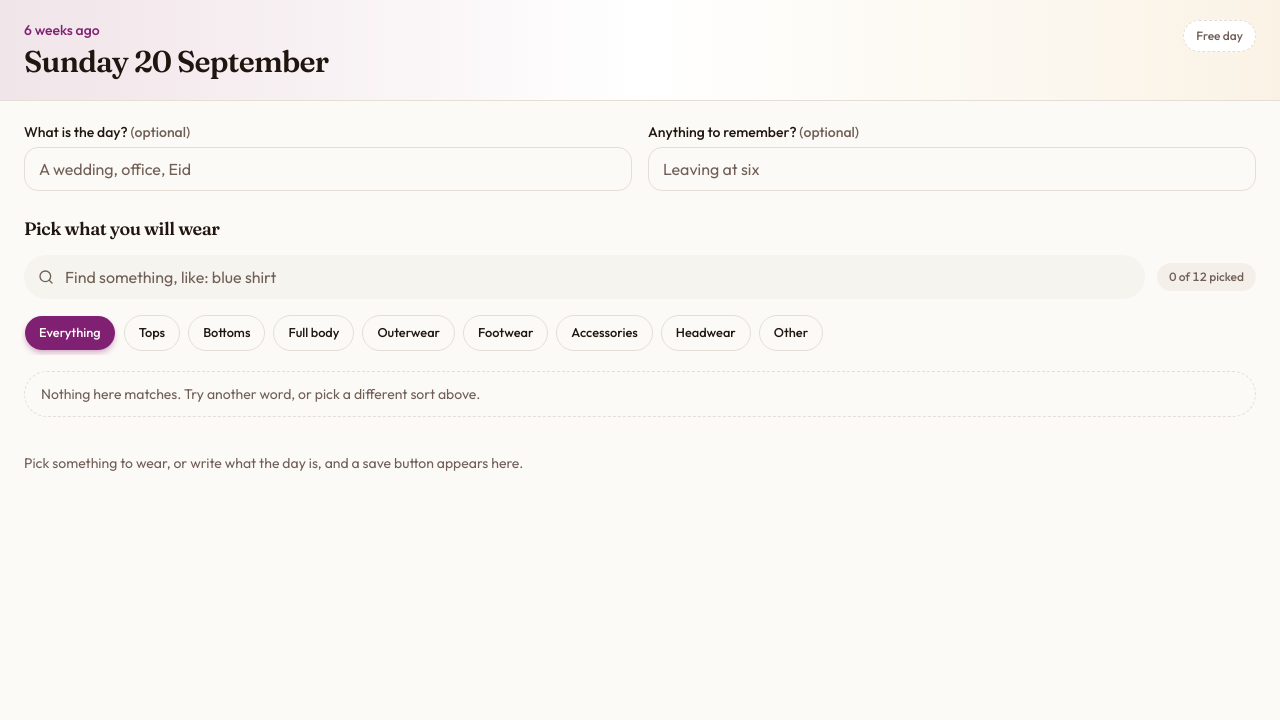
Test case: DayPlan, on a free day › brings the save button out once the day is named
Type "Eid" into the field labelled "What is the day? (optional)" at (328, 169), box top-left (24, 147), bottom-right (632, 191)
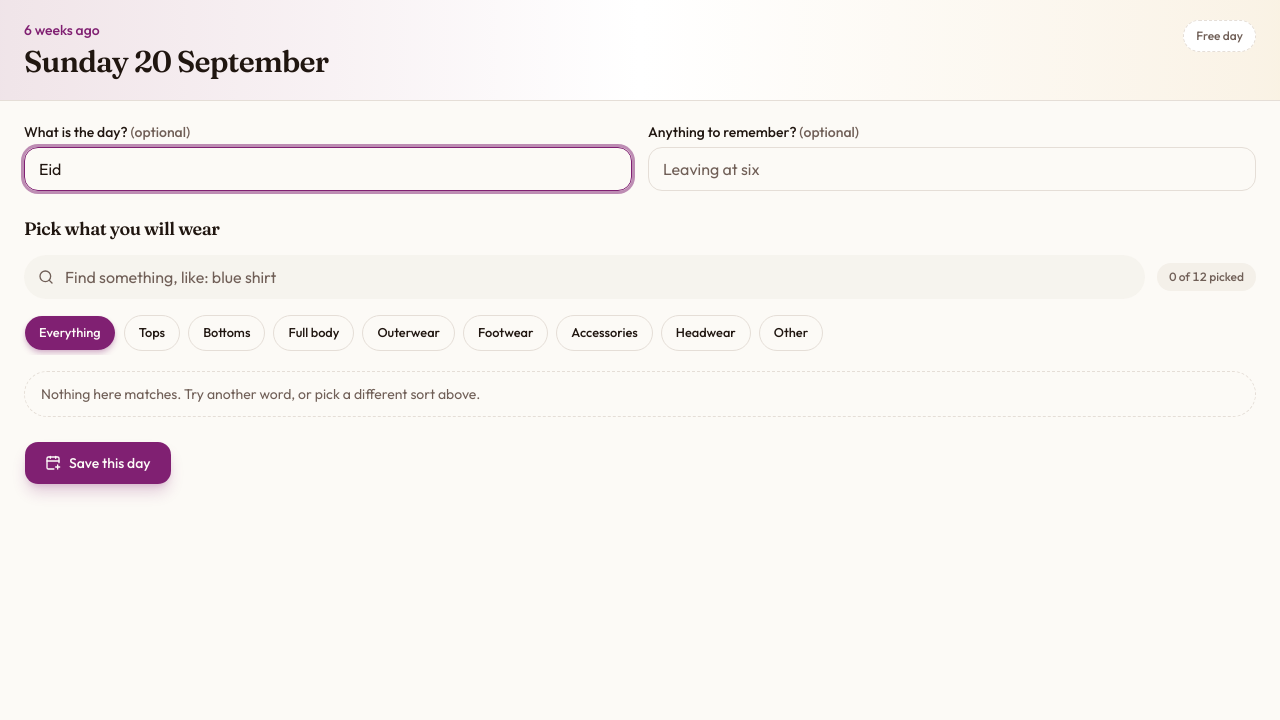
Expected: the button "Save this day" is shown, top-left (24, 441), bottom-right (172, 485)
